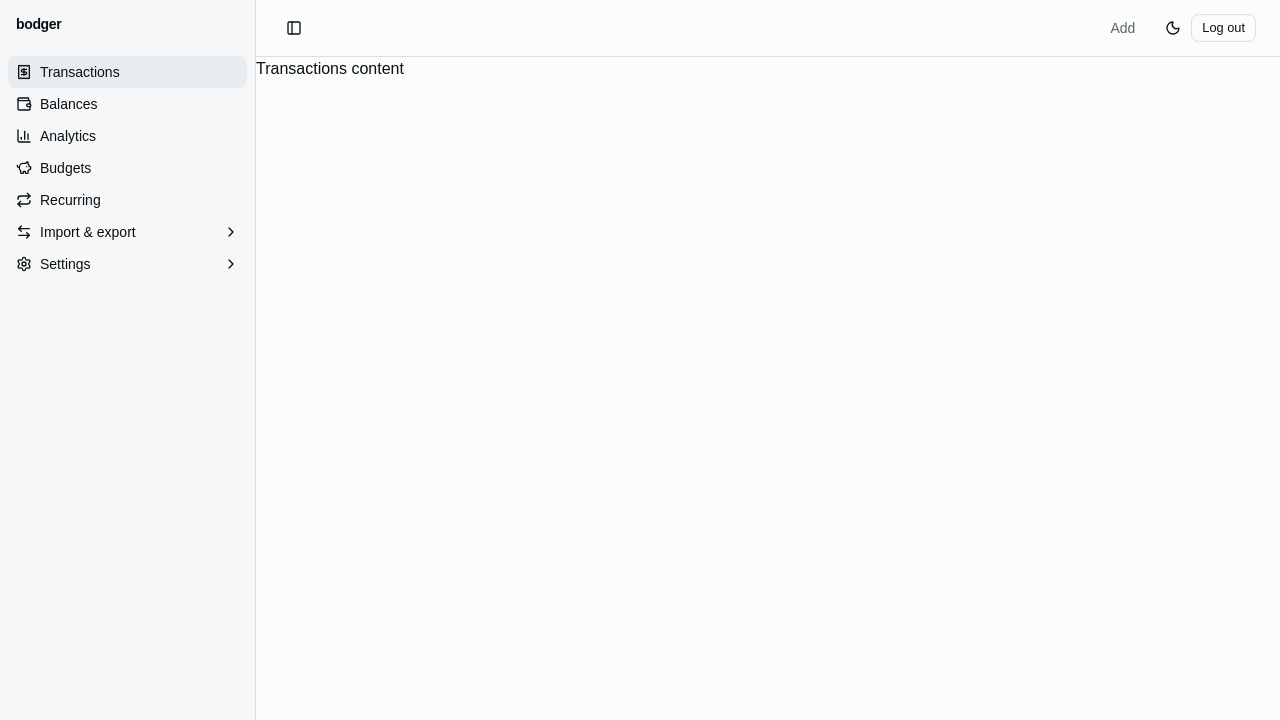
Test: AppLayout › Settings sidebar submenu › expands to show every section on click, and collapses again
Step 1. Click the button "Settings" → {"x": 128, "y": 264}, box [8,248,247,280]
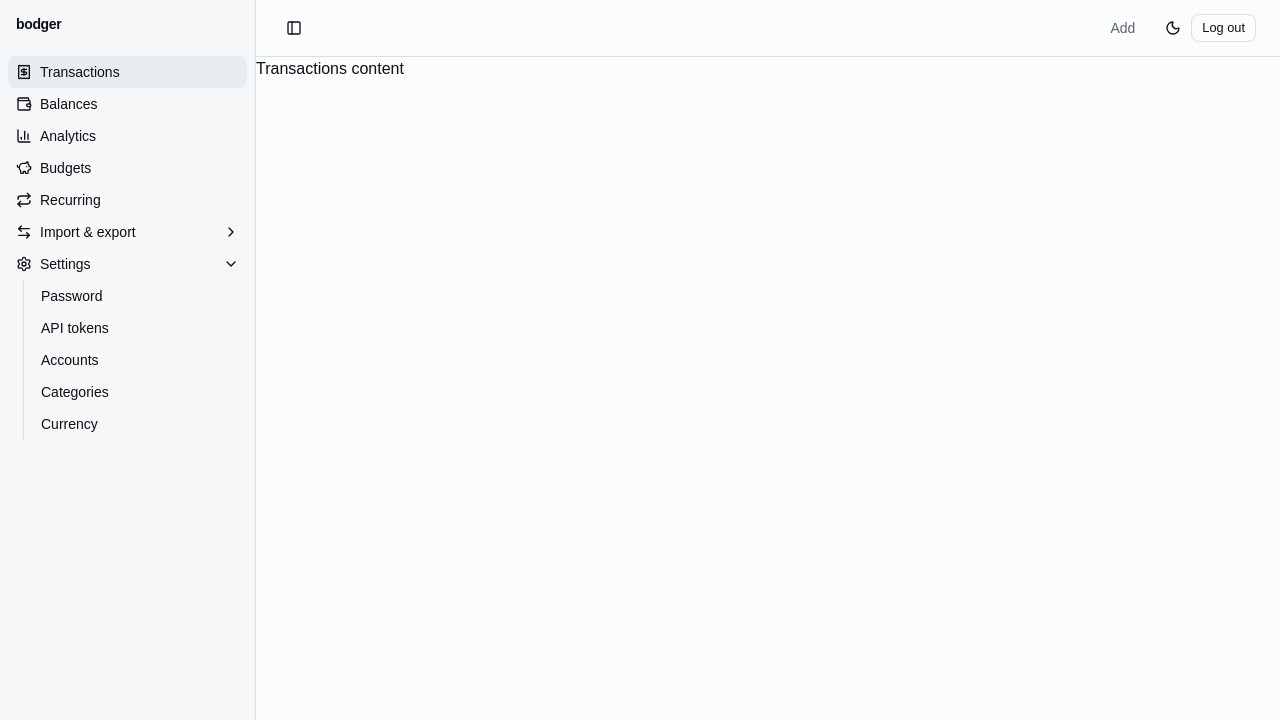
Step 2. Click the button "Settings" → {"x": 128, "y": 264}, box [8,248,247,280]
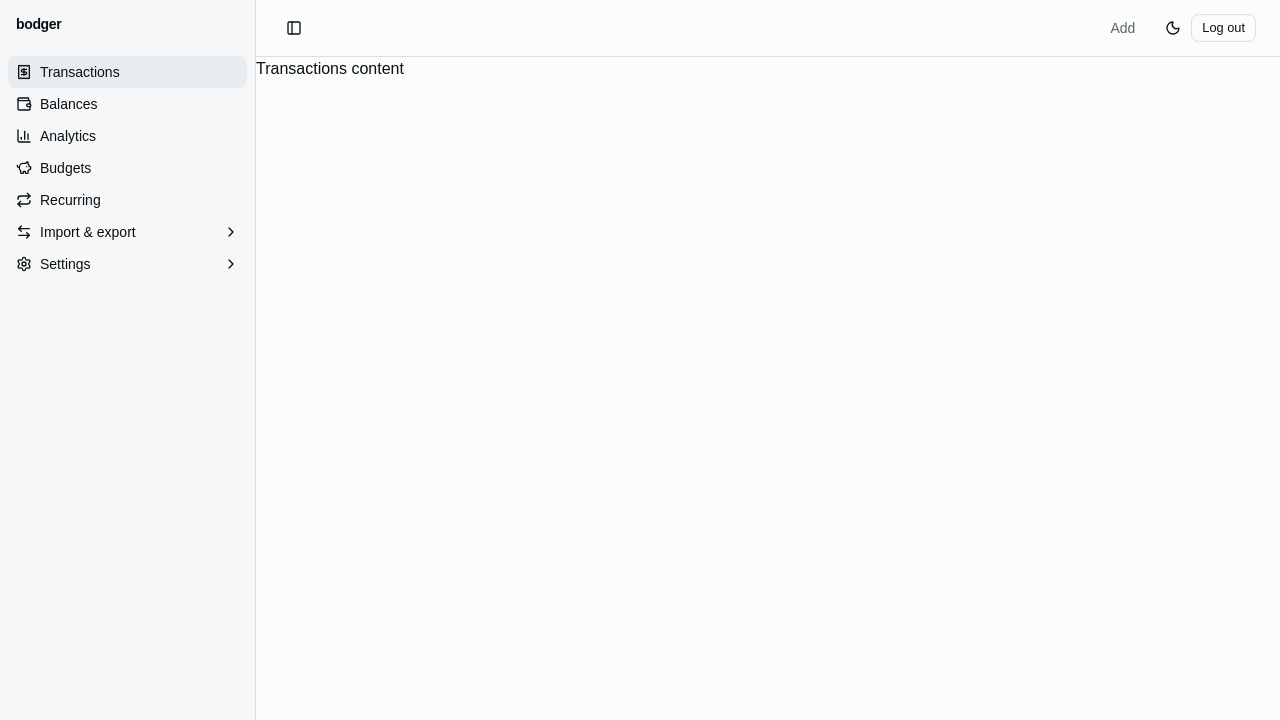
Expected: the link "Accounts" is gone
